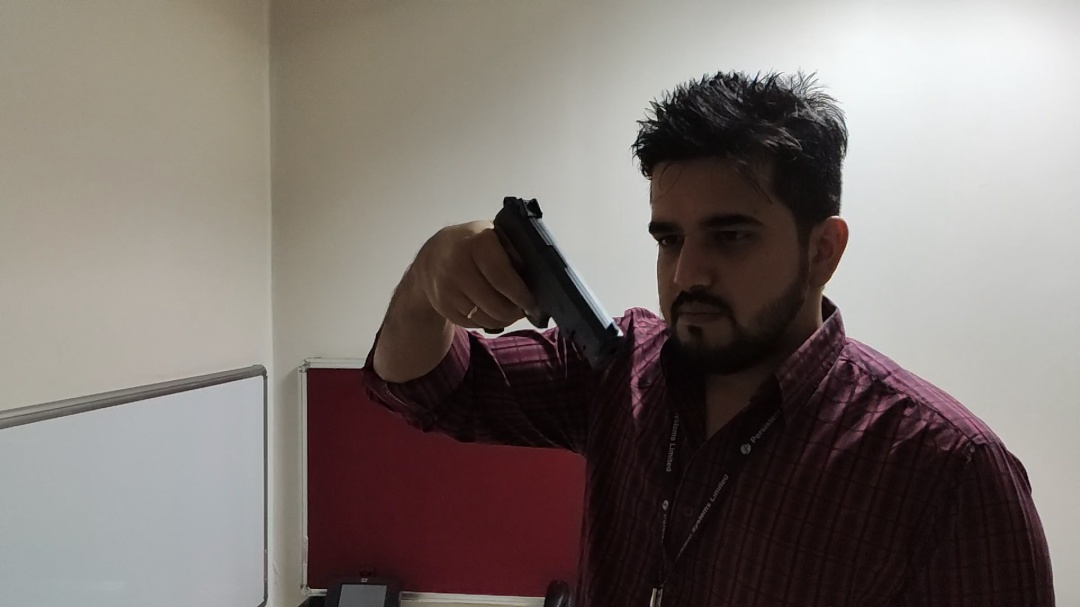gun: (473, 192, 618, 366)
